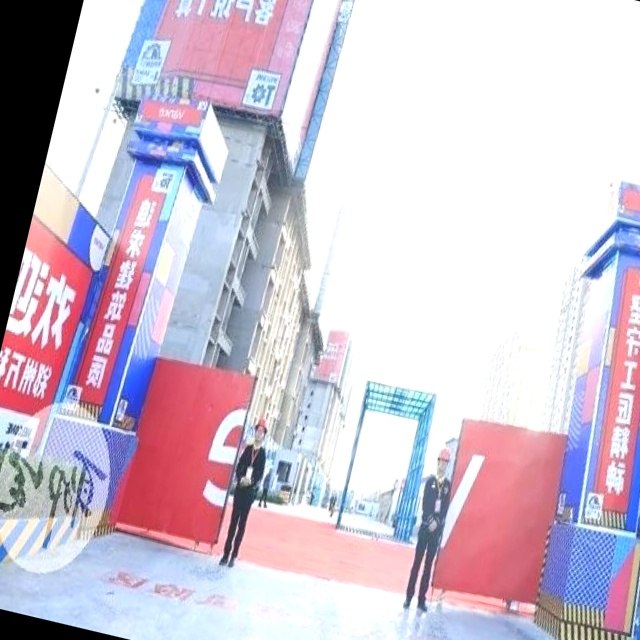Sin_Chaleco: (412, 473, 456, 542), (230, 440, 269, 503)
